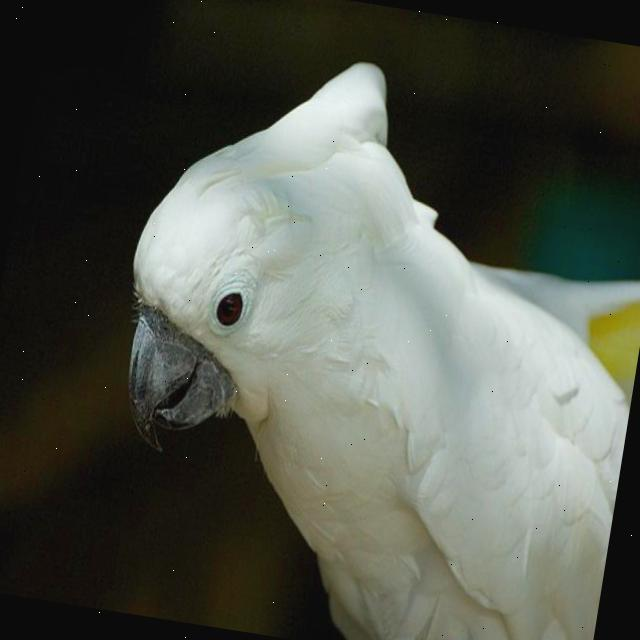Kakatua Putih: (73, 25, 640, 640)
